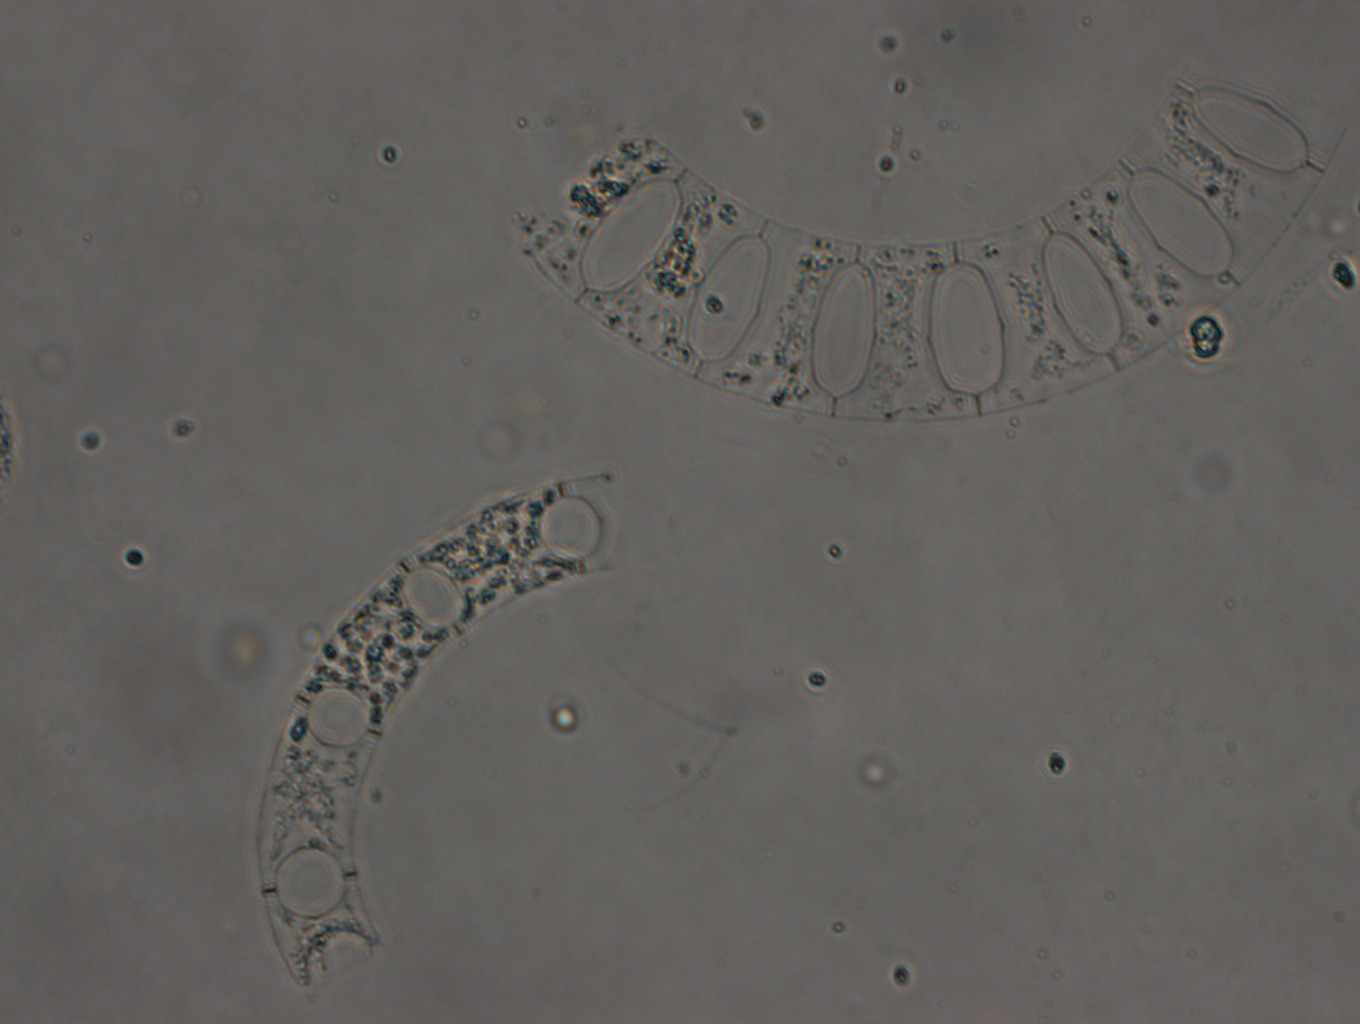eucampia: (502, 42, 1357, 431), (252, 468, 620, 998)
